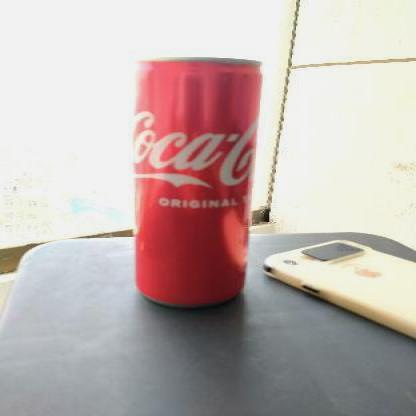alumunium_can: (130, 53, 264, 311)
